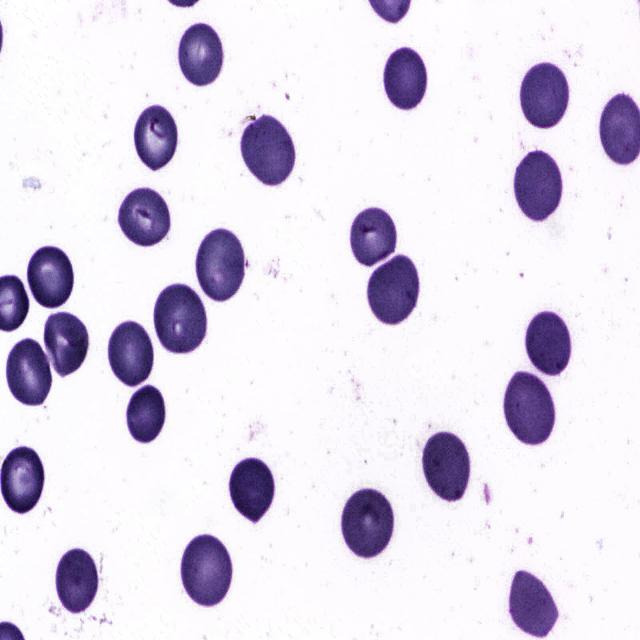red blood cell: (151, 282, 212, 356), (192, 226, 248, 304), (503, 371, 557, 450), (419, 428, 473, 506), (180, 532, 233, 609), (242, 112, 296, 187), (512, 147, 564, 224), (342, 486, 396, 560), (3, 336, 55, 411), (366, 256, 420, 327), (518, 58, 571, 130), (24, 240, 78, 310), (116, 184, 174, 248), (52, 544, 102, 618), (226, 455, 278, 525), (523, 307, 573, 379), (132, 101, 181, 174), (176, 20, 226, 90), (510, 568, 559, 639), (0, 444, 47, 516), (381, 45, 430, 113), (41, 312, 91, 378), (348, 202, 399, 266), (108, 319, 154, 388), (124, 382, 168, 447)
